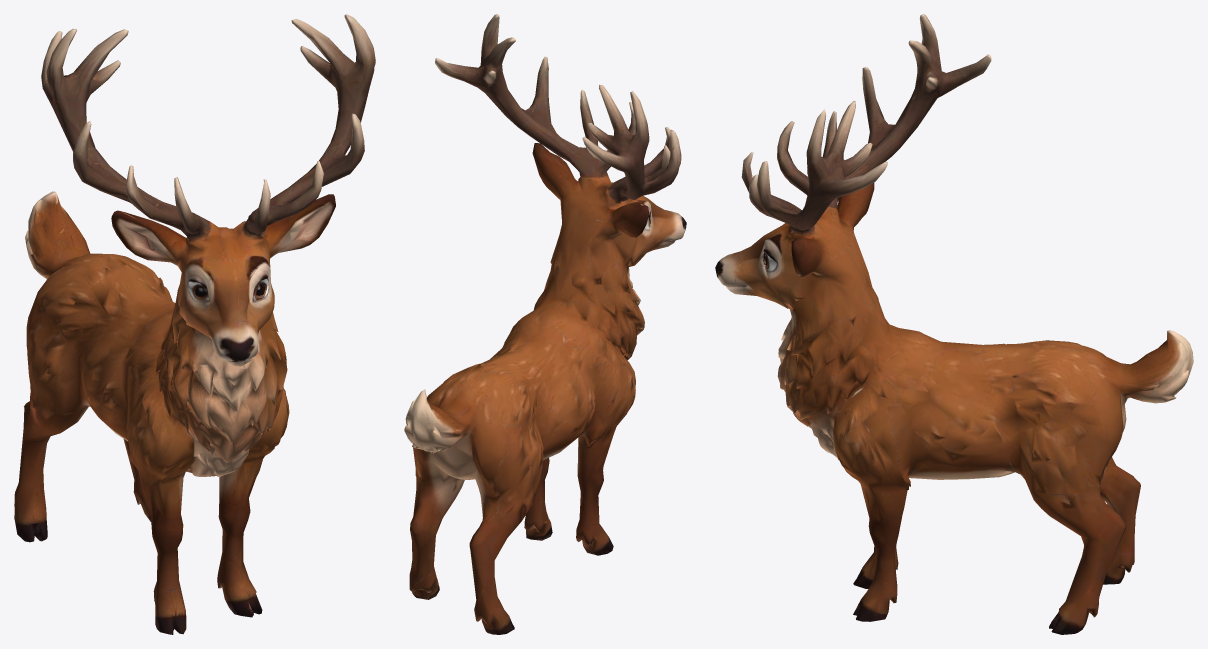
File: stag.glb
The picture shows the model from 3 angles, left to right: view 1: azimuth 30°, elevation 25°; view 2: azimuth 150°, elevation 25°; view 3: azimuth 270°, elevation 25°; orthographic projection. The views are drawn at different scales.
Size of the model in its own units: 0.9771 by 1.9 by 1.53.
Materials: 1 (1 with a texture image).
